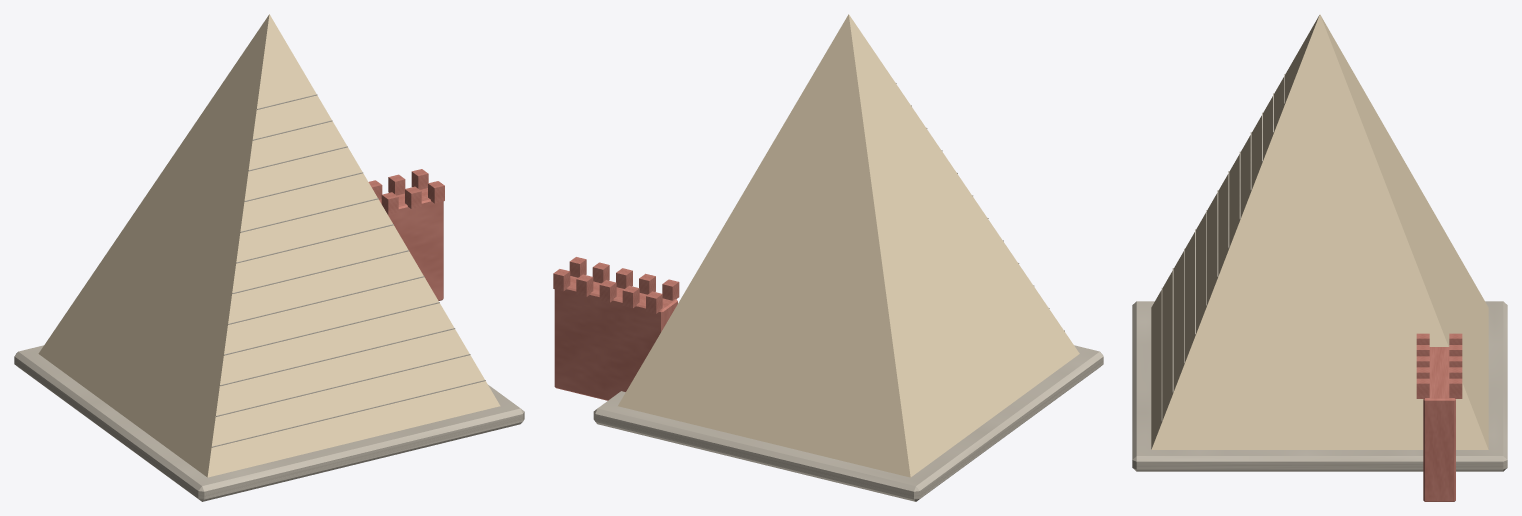
Rendered from pyramid-cestius.glb.
The picture shows the model from 3 angles, left to right: view 1: azimuth 30°, elevation 25°; view 2: azimuth 150°, elevation 25°; view 3: azimuth 270°, elevation 25°; orthographic projection.
Parts seen in each view (by area): view 1: pyramid-cestius; view 2: pyramid-cestius; view 3: pyramid-cestius.
Boxes of the visible parts, x1,y1,x2,y2 form: pyramid-cestius: (14, 14, 524, 501); pyramid-cestius: (553, 14, 1103, 501); pyramid-cestius: (1132, 14, 1507, 501).
Size of the model in its own units: 8.25 by 7.72 by 6.9.
Materials: 1 (1 with a texture image).
